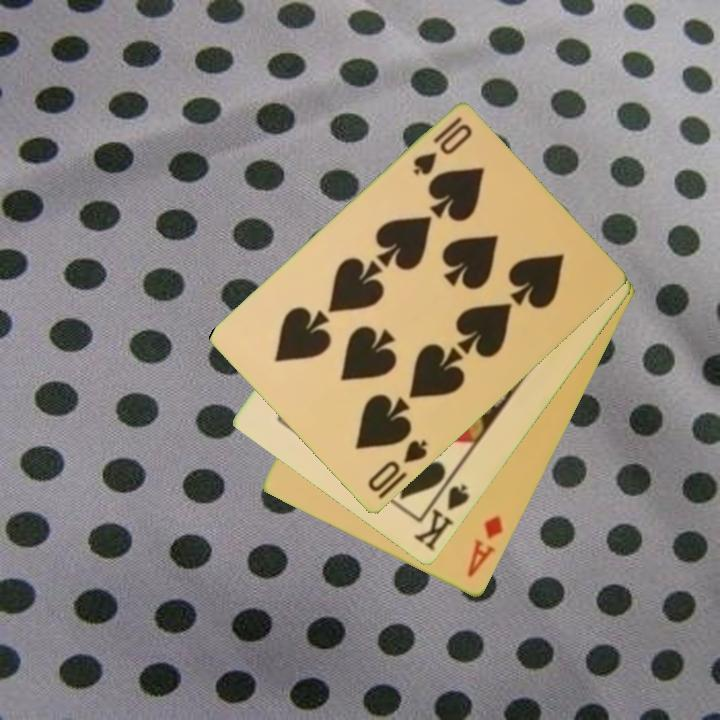10s: (409, 113, 476, 179), (364, 437, 431, 496)
Ad: (463, 512, 506, 581)
Ks: (410, 472, 473, 555)
